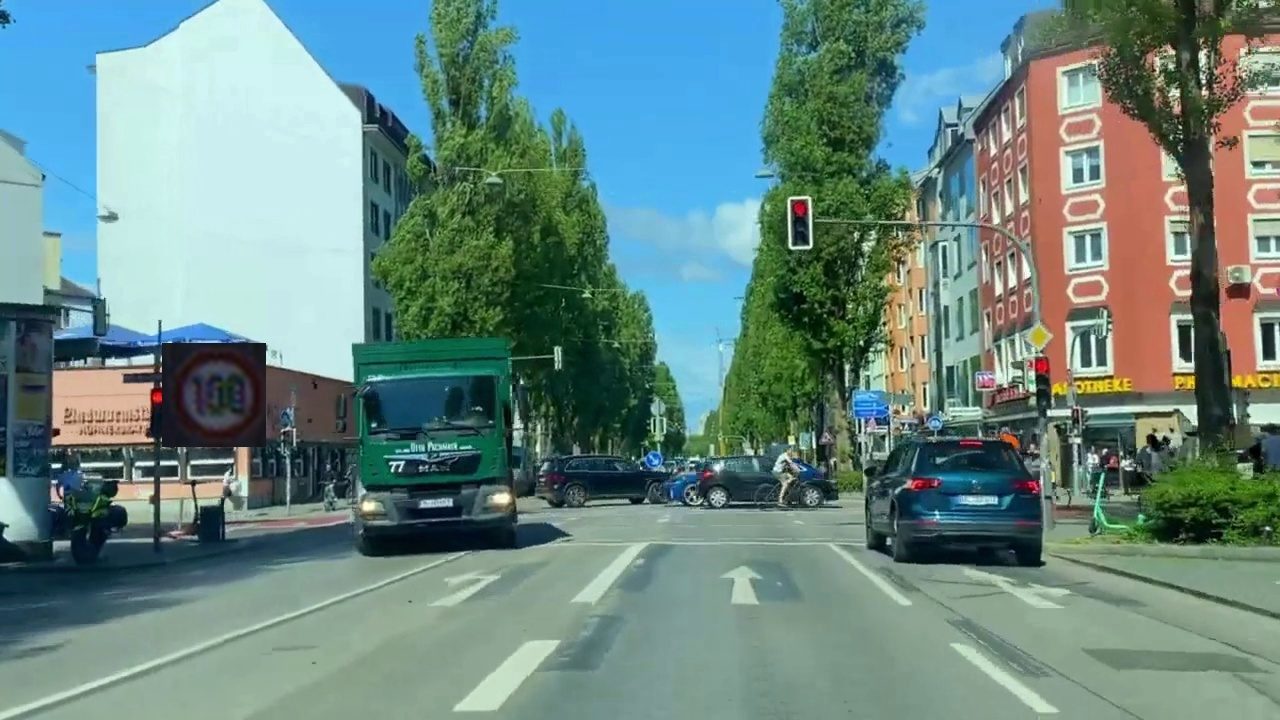Speed 100: (162, 343, 266, 447)
